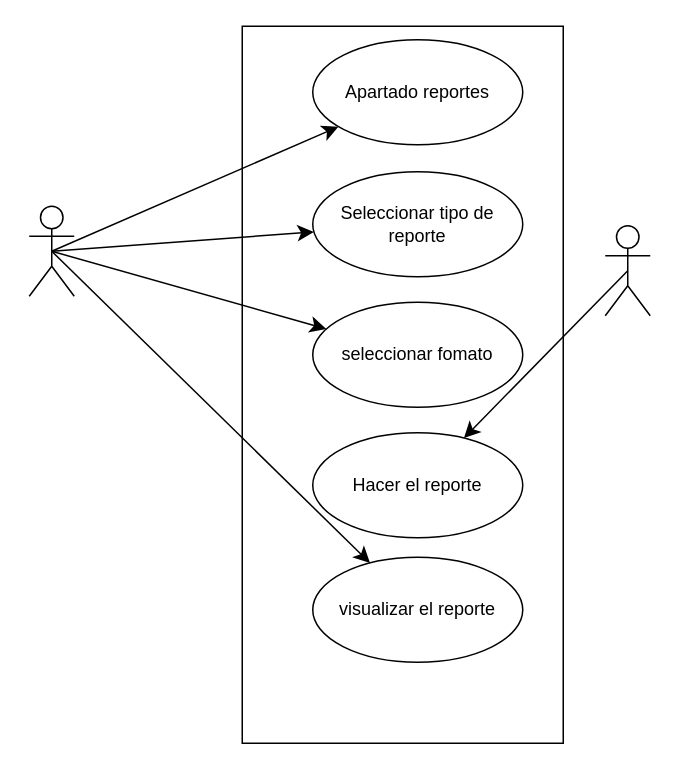
Some shapes in this 686 by 770 pixel diagram are drawn without their labels. Each missing label, with the centre of its shape:
"Admin" goes at [51,250].
"Sistema" goes at [627,270].
